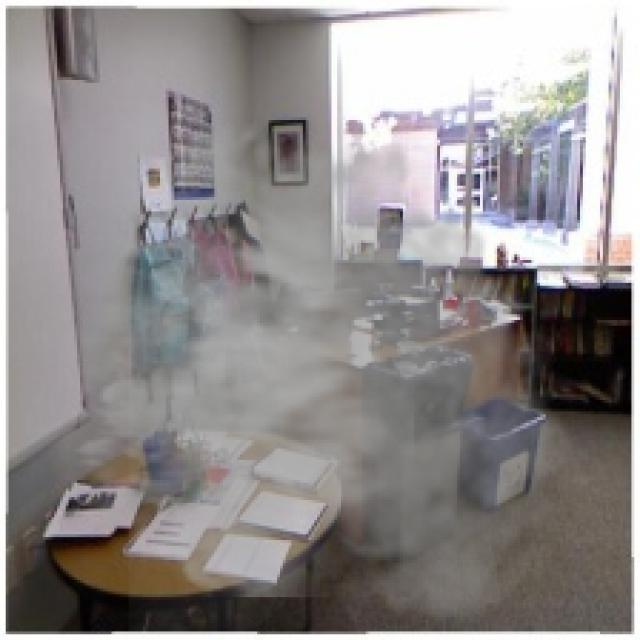smoke: (31, 106, 588, 634)
